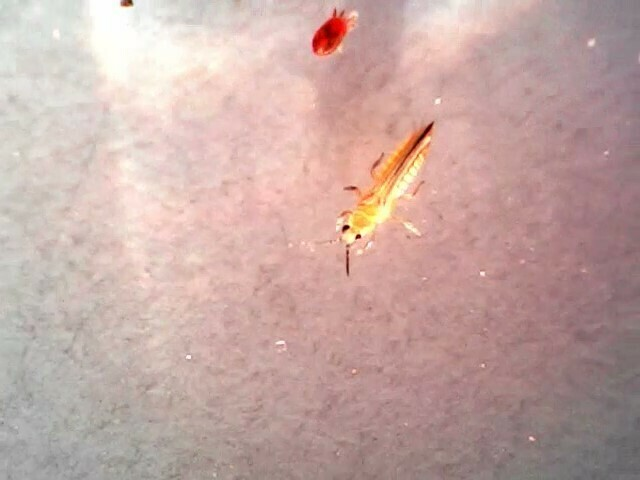tiny_pests: (284, 87, 470, 306)
